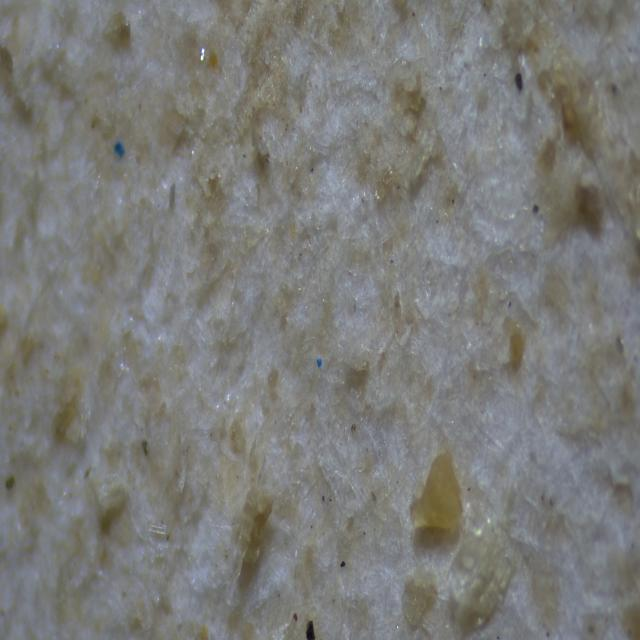microplastic: (113, 137, 129, 160), (315, 353, 325, 373)
